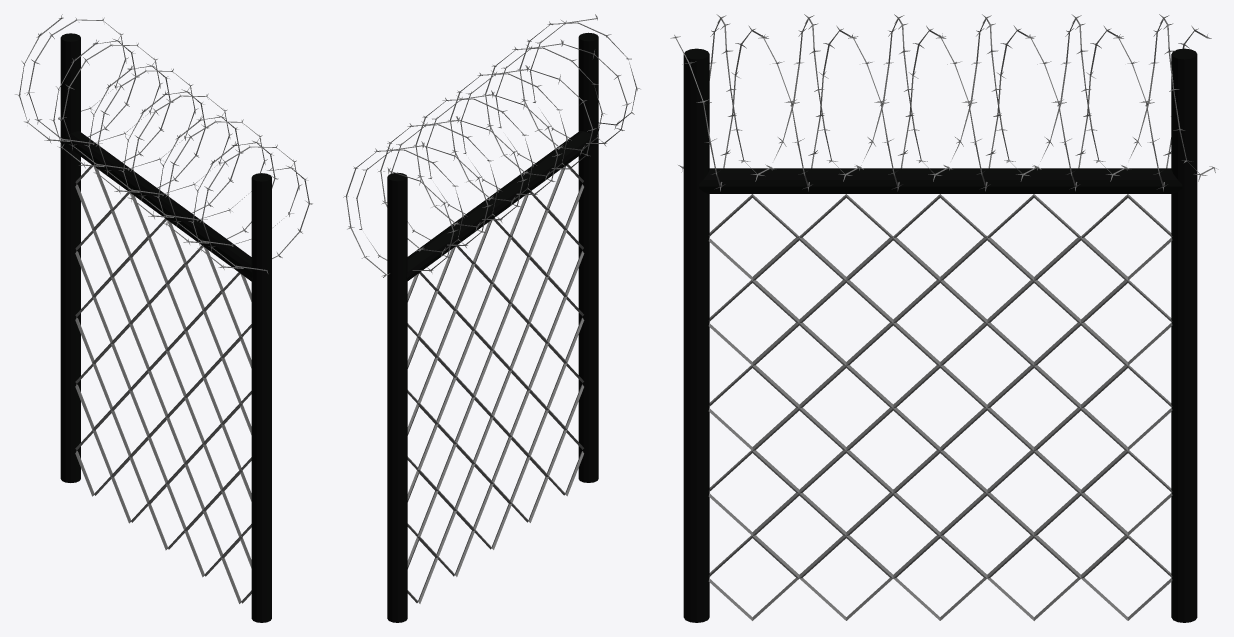
The model's file is barb_fence.glb.
The picture shows the model from 3 angles, left to right: view 1: azimuth 30°, elevation 25°; view 2: azimuth 150°, elevation 25°; view 3: azimuth 270°, elevation 25°; orthographic projection. The views are drawn at different scales.
Visible parts, largest first — view 1: Metal Fence.001; view 2: Metal Fence.001; view 3: Metal Fence.001.
Boxes of the visible parts, <box> form: Metal Fence.001: <box>15,14,312,622</box>; Metal Fence.001: <box>343,14,640,622</box>; Metal Fence.001: <box>670,14,1218,622</box>.
Size of the model in its own units: 1.68 by 6.59 by 5.49.
1 material, 1 textured.
